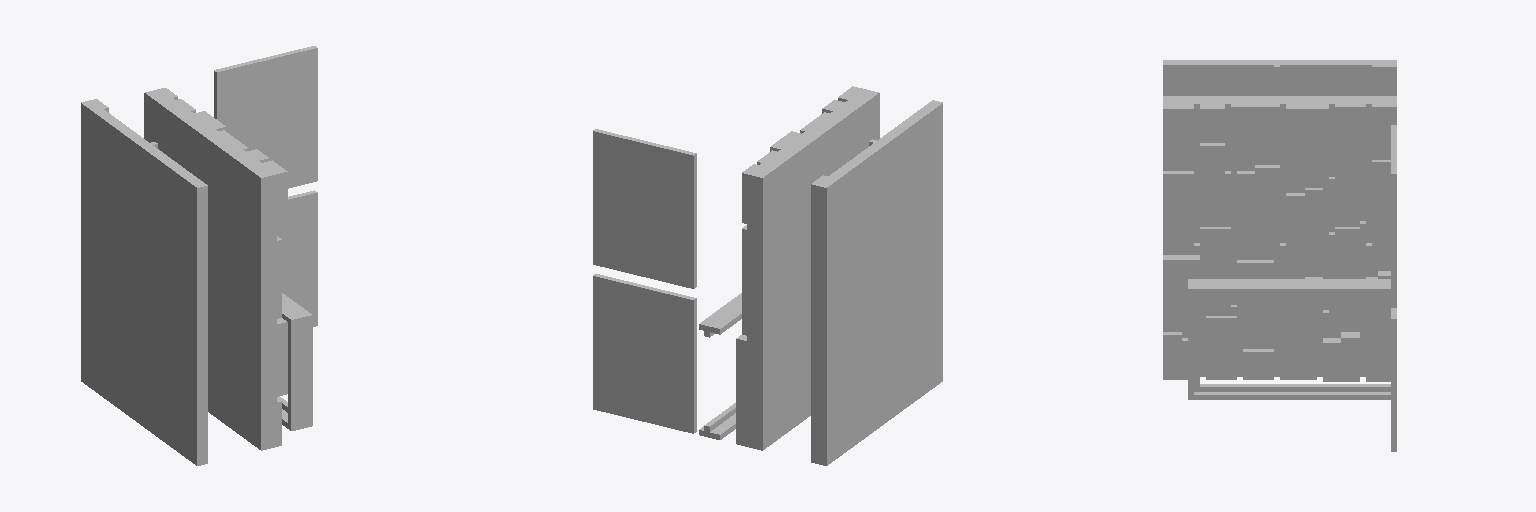
File: walls01.obj
3 renders of one model, left to right at view 1: azimuth 30°, elevation 25°; view 2: azimuth 150°, elevation 25°; view 3: azimuth 270°, elevation 25°, orthographic.
Parts seen in each view (by area): view 1: ParedInterior, PeredPiedra, sueloMadera, sueloPiedra, MarcoPuerta; view 2: ParedInterior, PeredPiedra, sueloMadera, sueloPiedra, MarcoPuerta; view 3: PeredPiedra, ParedInterior, MarcoPuerta, sueloMadera, sueloPiedra.
Boxes of the visible parts, box(x1,y1,x2,y2) form: ParedInterior: box(81, 99, 207, 465); PeredPiedra: box(144, 88, 287, 450); sueloMadera: box(214, 46, 317, 188); sueloPiedra: box(277, 190, 317, 326); MarcoPuerta: box(277, 293, 312, 430); ParedInterior: box(811, 100, 942, 465); PeredPiedra: box(736, 86, 879, 450); sueloMadera: box(593, 129, 696, 288); sueloPiedra: box(593, 274, 696, 433); MarcoPuerta: box(699, 293, 741, 439); PeredPiedra: box(1163, 96, 1396, 381); ParedInterior: box(1163, 60, 1396, 95); MarcoPuerta: box(1188, 279, 1390, 399); sueloMadera: box(1391, 125, 1396, 307); sueloPiedra: box(1391, 308, 1396, 451).
Size of the model in its own units: 220 by 250 by 190.